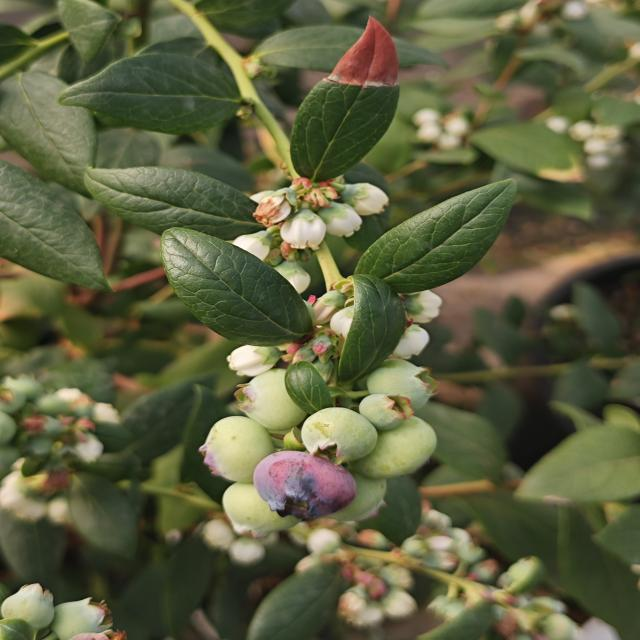ripe: (260, 448, 358, 521)
